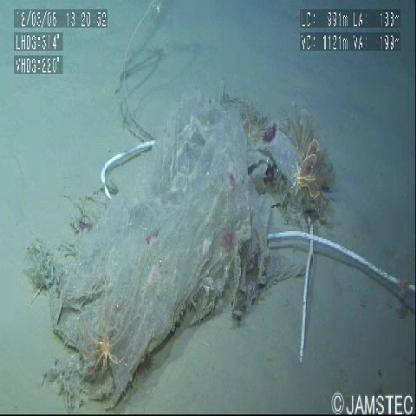Rác: (44, 99, 304, 378)
